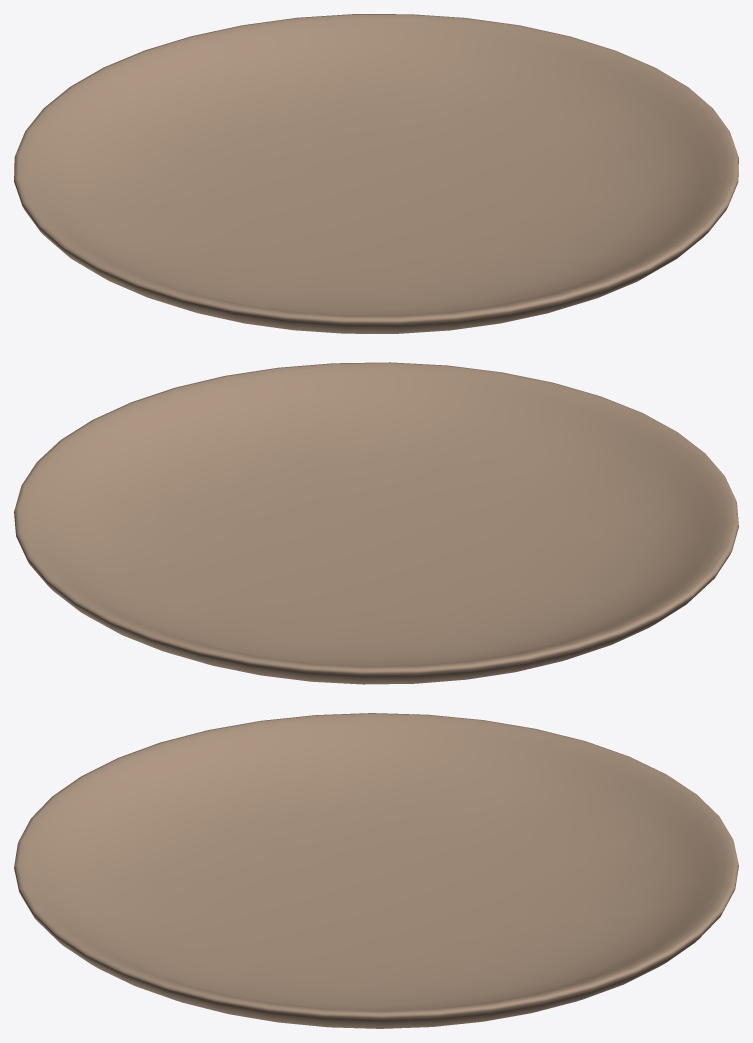
The model's file is Poterie1.fbx.
3 views of the same model, one above another, from view 1: azimuth 30°, elevation 25°; view 2: azimuth 150°, elevation 25°; view 3: azimuth 270°, elevation 25° (orthographic).
Visible parts, largest first — view 1: polySurface33; view 2: polySurface33; view 3: polySurface33.
Boxes of the visible parts, x1,y1,x2,y2 form: polySurface33: [14, 14, 738, 333]; polySurface33: [14, 362, 738, 684]; polySurface33: [14, 713, 738, 1028].
Size of the model in its own units: 0.3842 by 0.0311 by 0.384.
